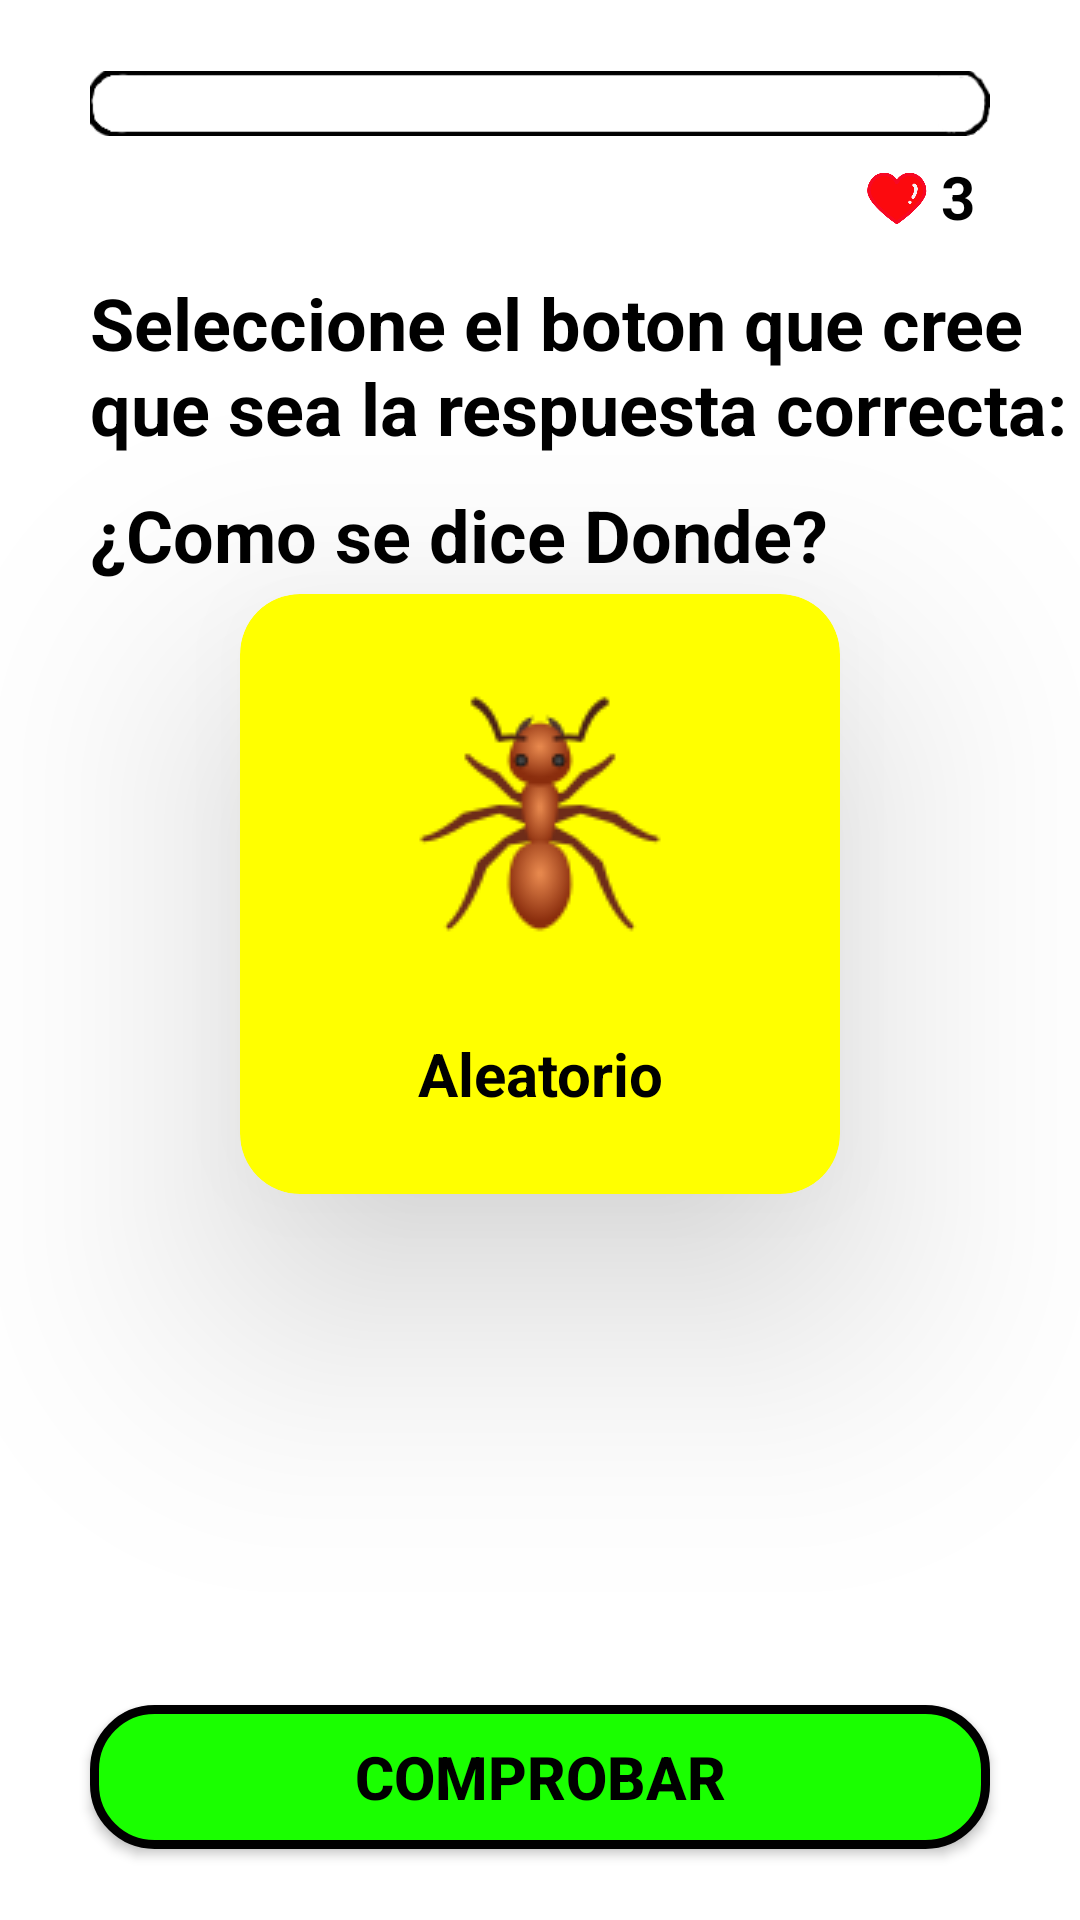

Where icons sit on this 1080 × 1920 app screen, as bbox=(x1, y1, x2, y2):
heart: bbox=(867, 173, 927, 224)
hormiga: bbox=(419, 696, 661, 931)
